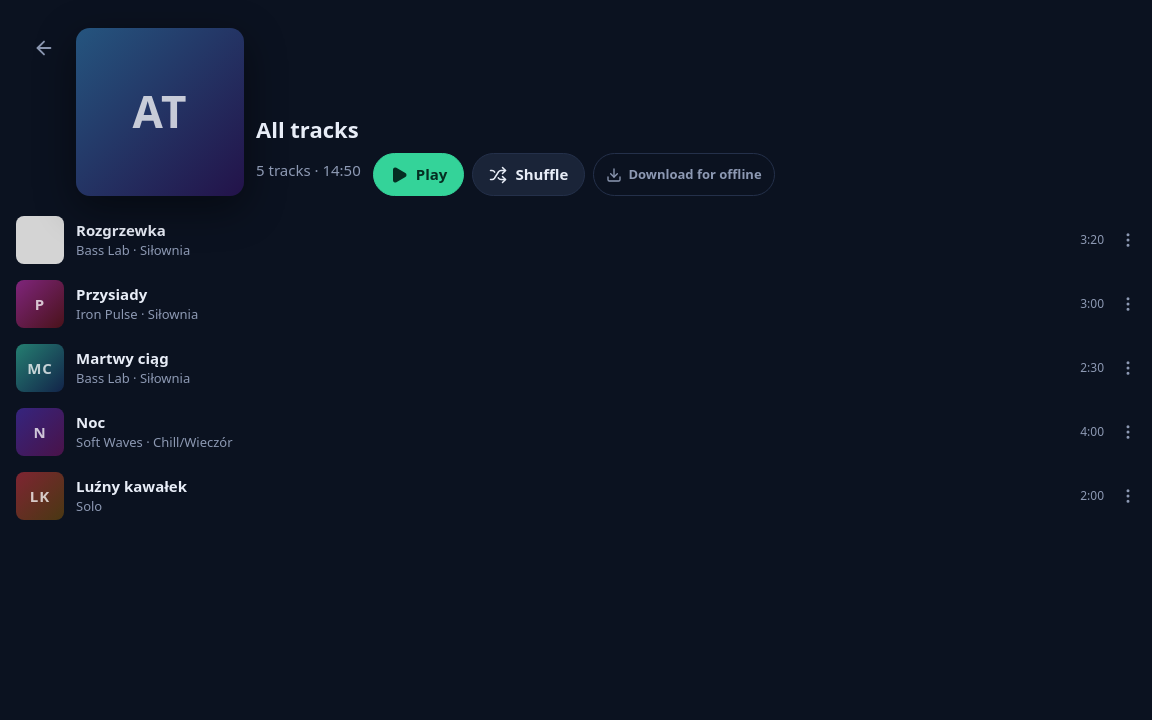
Test: collection views › adds a track to the queue from its menu
Click the button named "⋯" next to "3:00". click: {"x": 1128, "y": 304}
box: [1108,284,1148,324]
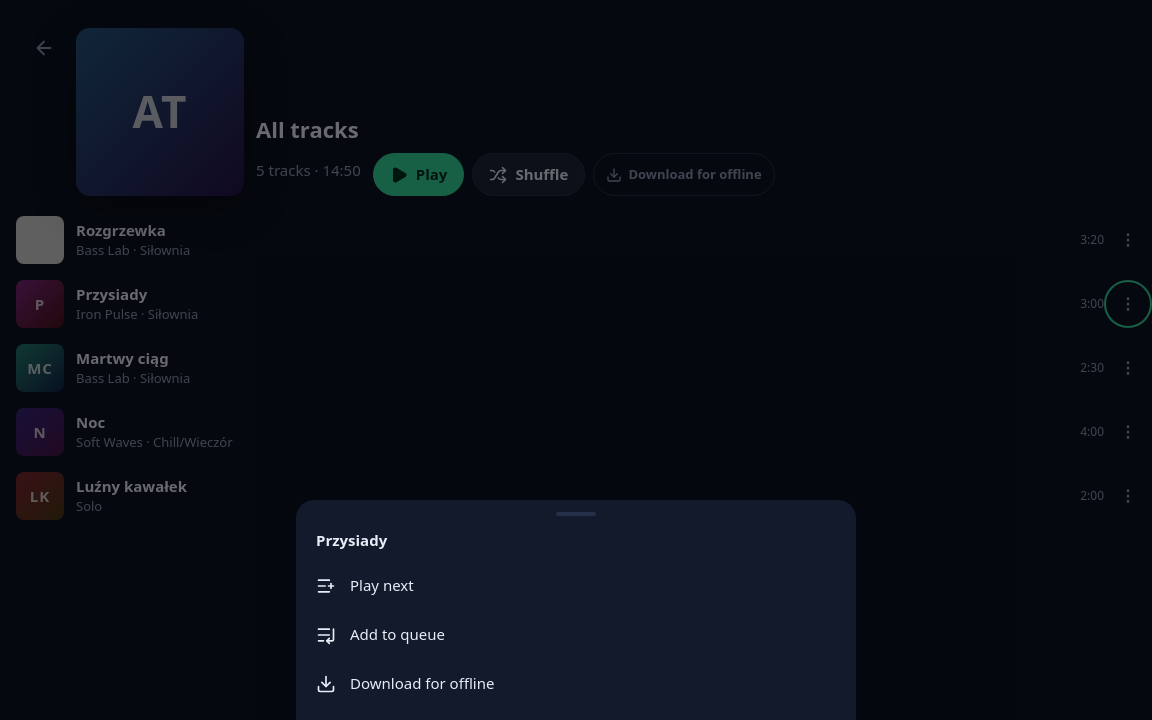
Click the button "Play next". click: {"x": 382, "y": 585}
box: [304,561,848,610]
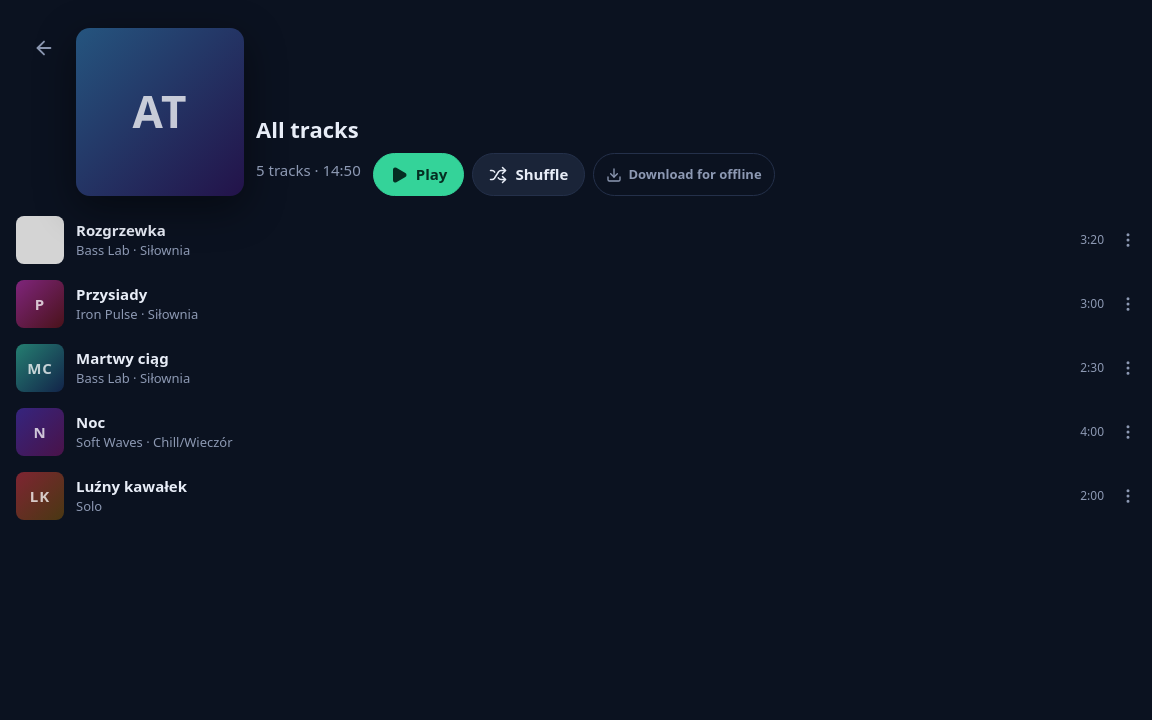
Check: the dialog is gone
Click the button named "⋯" next to "2:30". click: {"x": 1128, "y": 368}
box: [1108,348,1148,388]
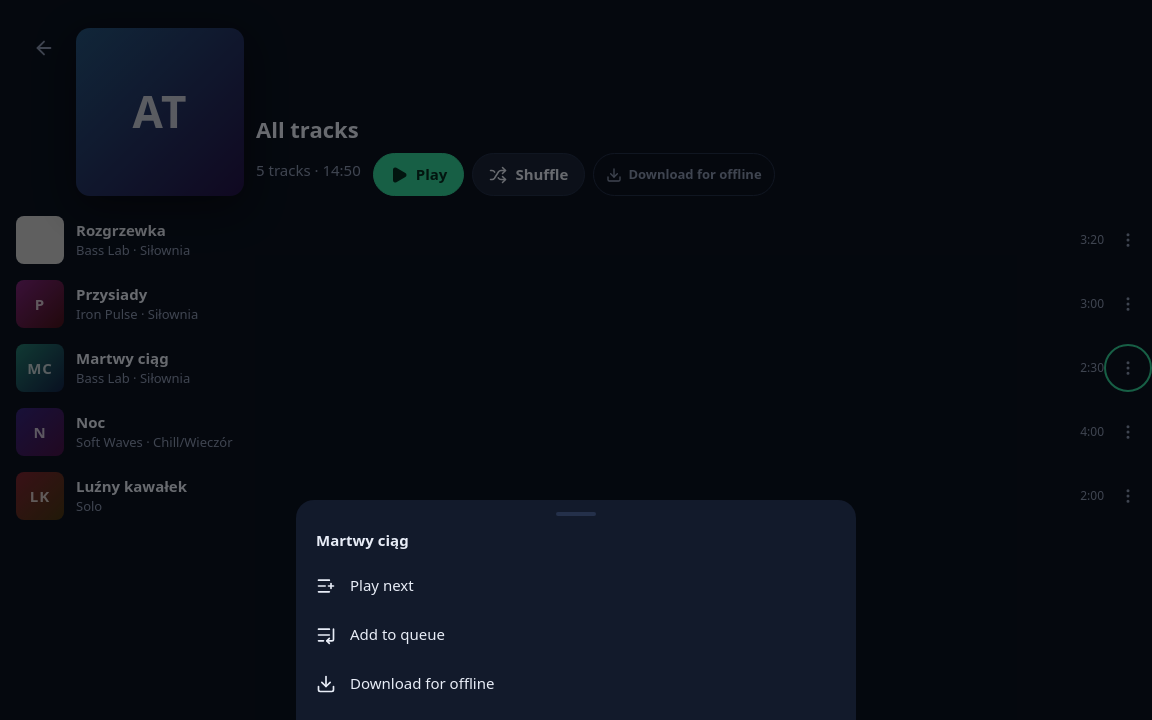
Click the button "Add to queue". click: {"x": 398, "y": 634}
box: [304,610,848,659]
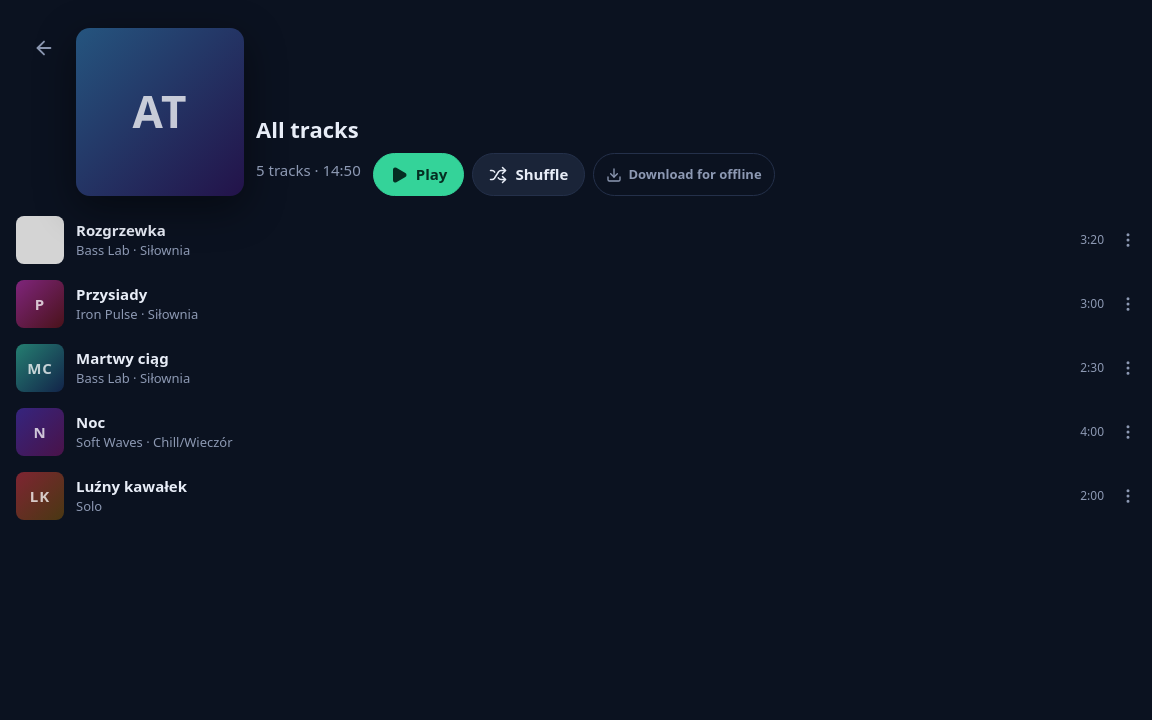
Click the button named "⋯" next to "3:20". click: {"x": 1128, "y": 240}
box: [1108,220,1148,260]
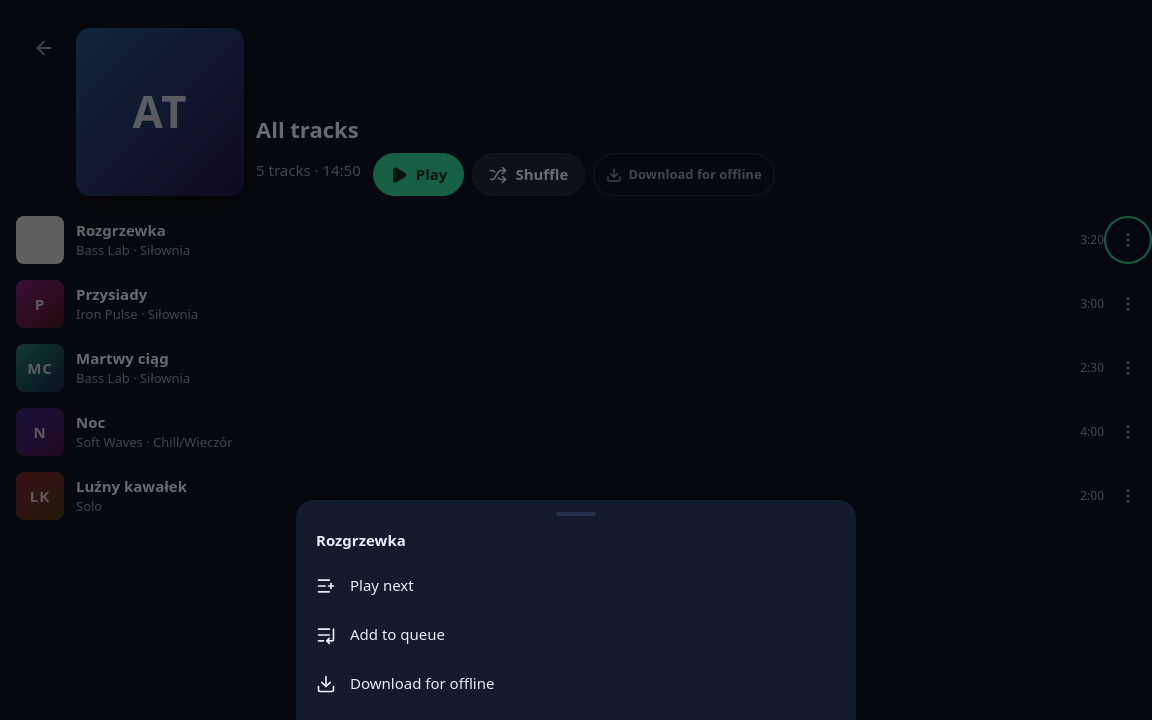
Press Escape
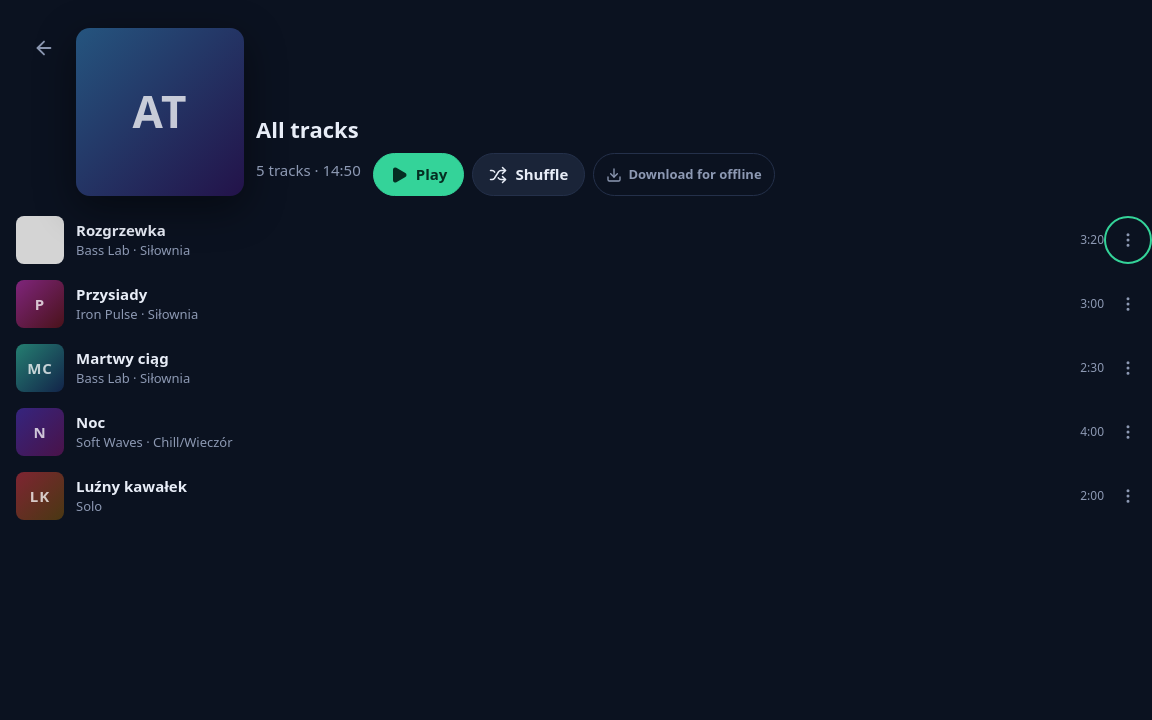
Check: the dialog is gone
